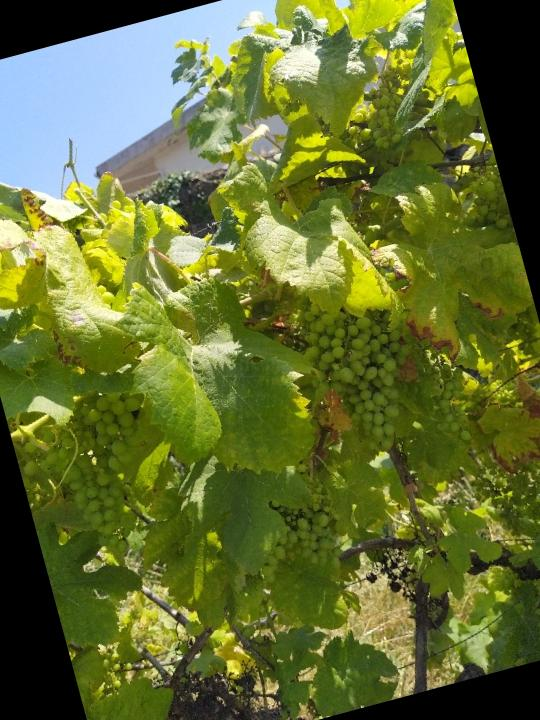grape: (8, 383, 179, 574), (285, 269, 432, 467), (239, 474, 349, 591)
